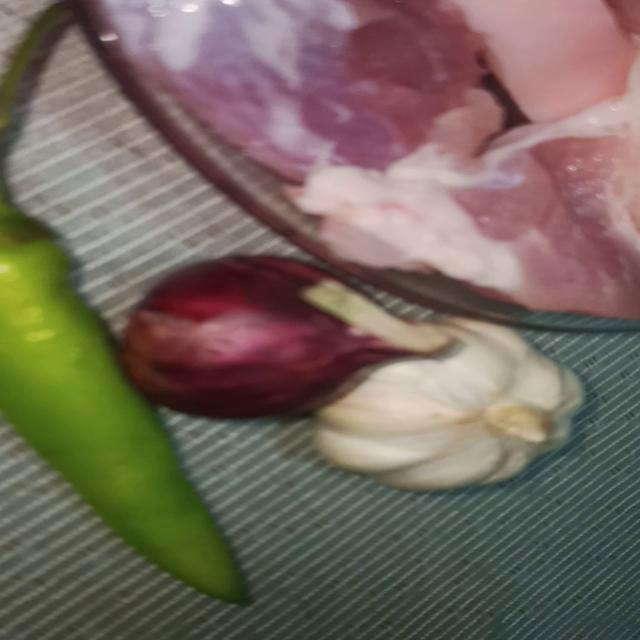chili_pepper: (0, 34, 258, 634)
garlic: (320, 320, 596, 495)
onion: (139, 270, 385, 433)
pork: (92, 0, 483, 187), (302, 113, 640, 317)
